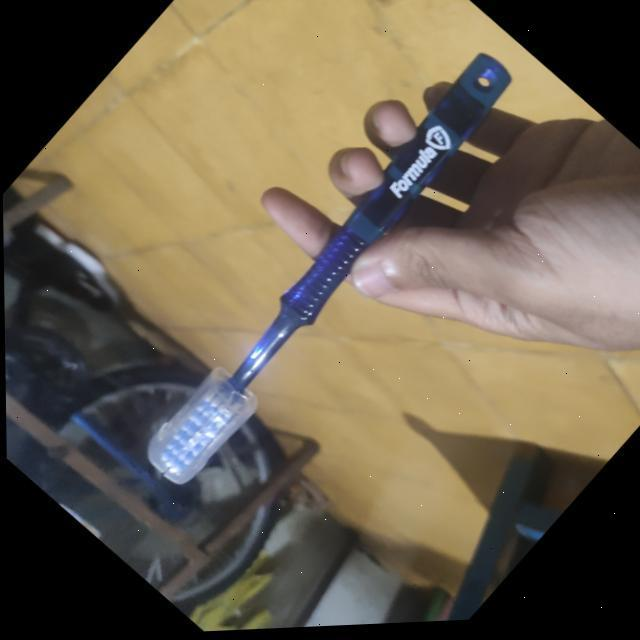toothbrush: (90, 19, 562, 522)
